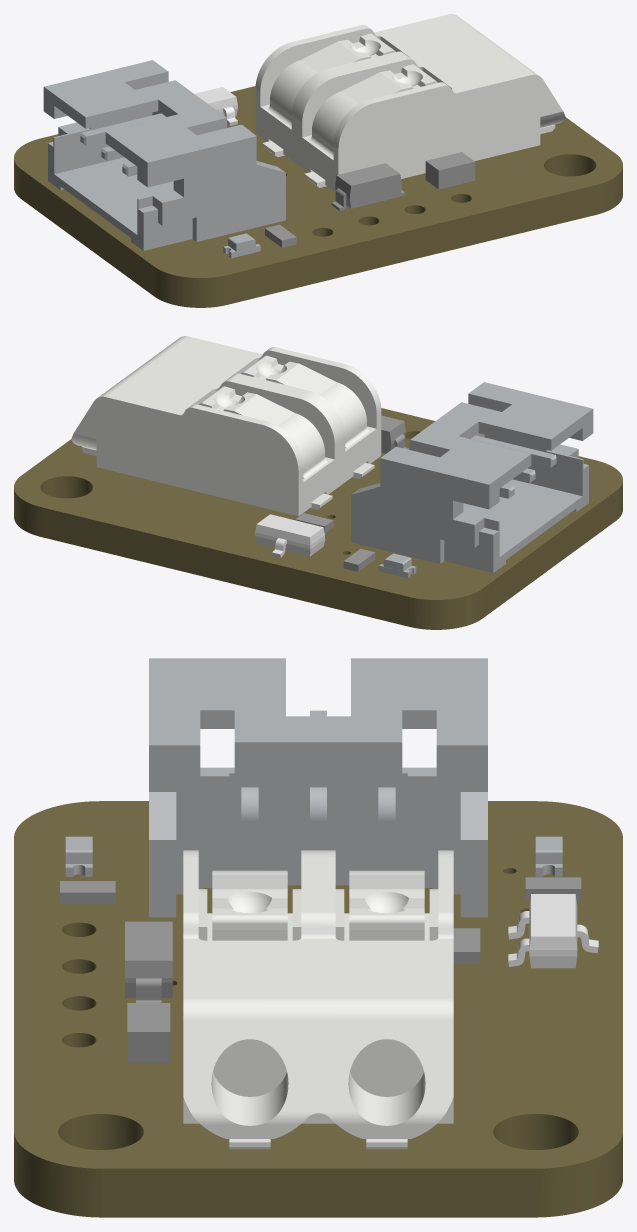
The model's file is mosfet-5648.glb.
The picture shows the model from 3 angles, top to bottom: view 1: azimuth 30°, elevation 25°; view 2: azimuth 150°, elevation 25°; view 3: azimuth 270°, elevation 25°; orthographic projection. The views are drawn at different scales.
Visible parts, largest first — view 1: mosfet-5648 / Imported CAD; view 2: mosfet-5648 / Imported CAD; view 3: mosfet-5648 / Imported CAD.
Part boxes in pixels (x1,y1,x2,y2): mosfet-5648 / Imported CAD: [14, 14, 622, 307]; mosfet-5648 / Imported CAD: [14, 336, 622, 629]; mosfet-5648 / Imported CAD: [14, 658, 622, 1217].
Size of the model in its own units: 25.4 by 6.37 by 17.78.
